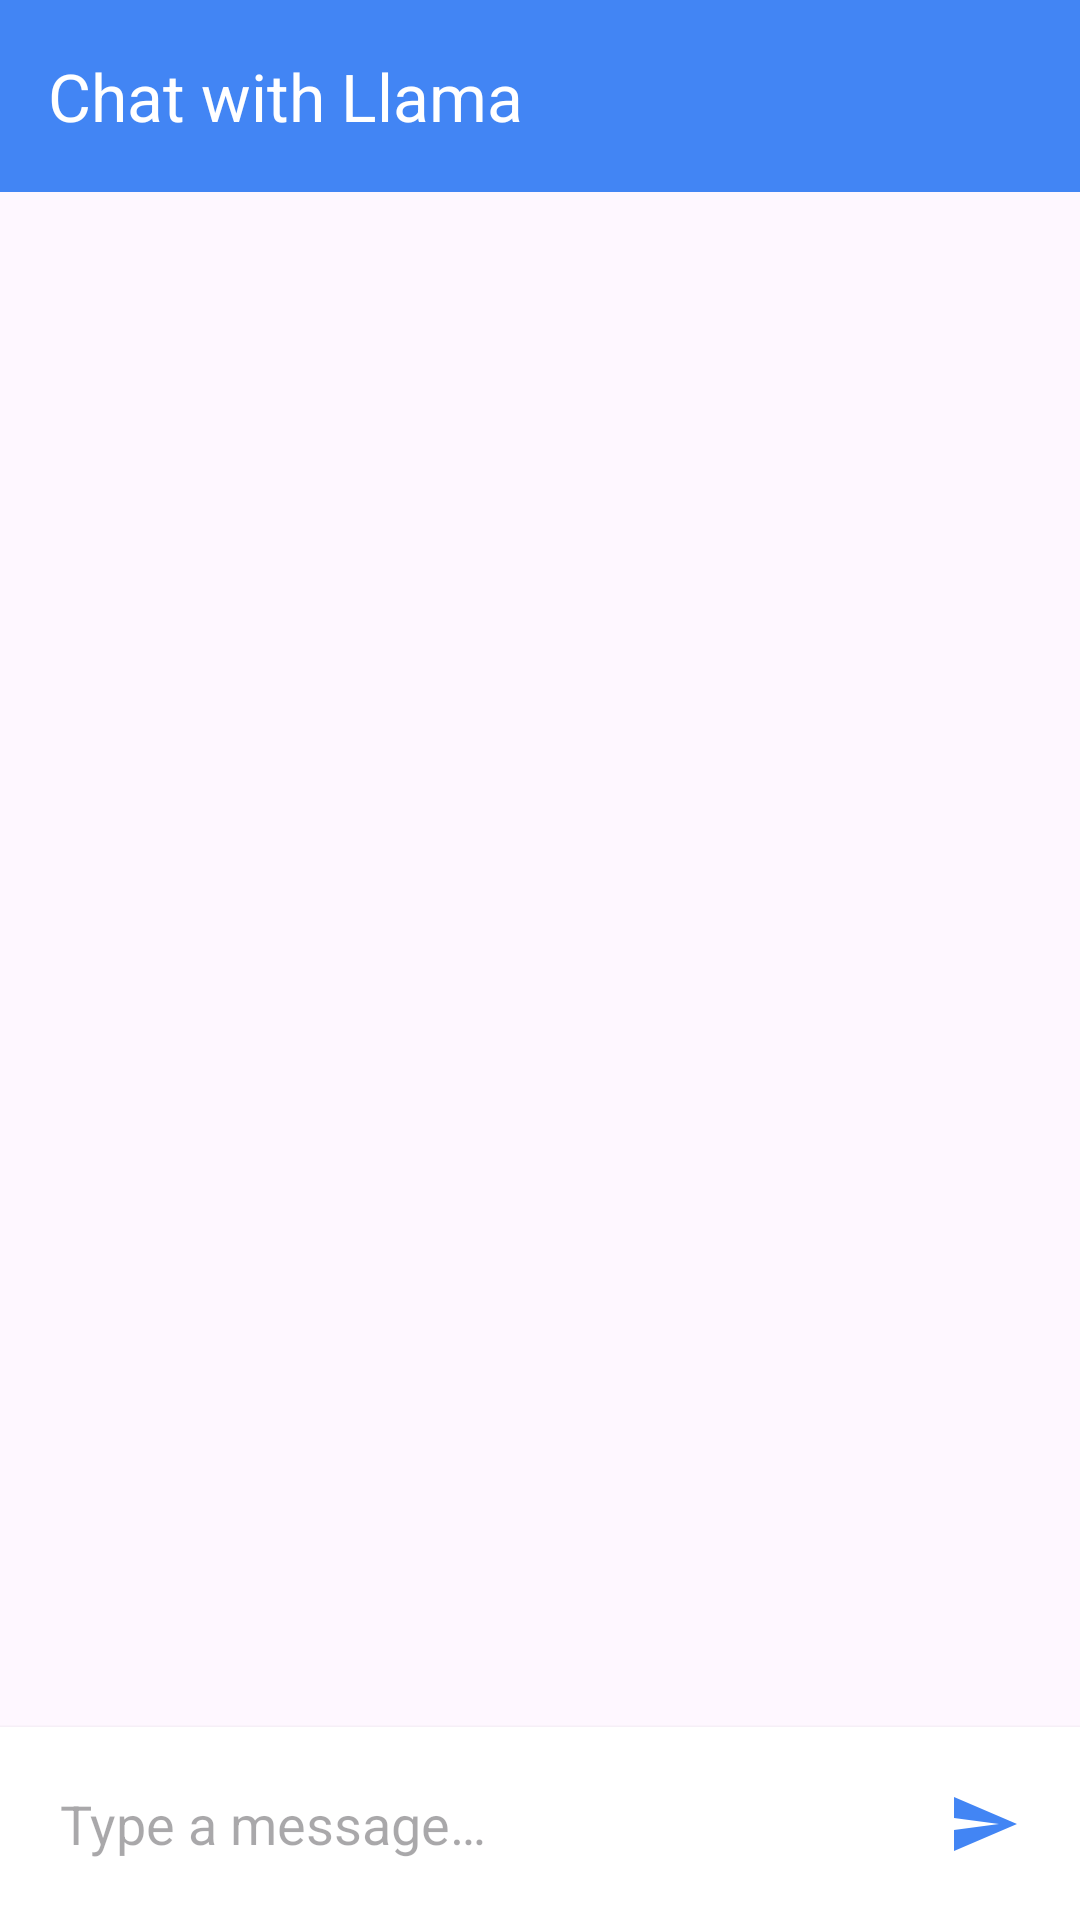

Point at icon controls on the screen. Image size 1080px x 1920px, points as point (x, y).
Send message: point (985, 1824)
